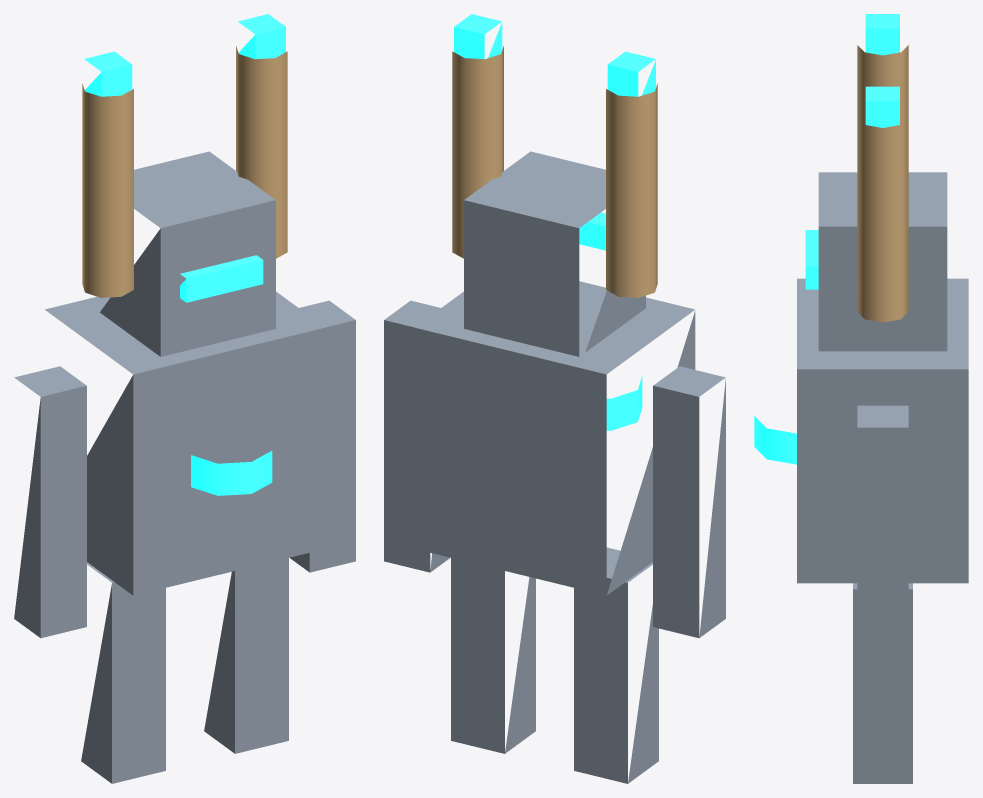
File: golem_galvanic_03.glb
The picture shows the model from 3 angles, left to right: view 1: azimuth 30°, elevation 25°; view 2: azimuth 150°, elevation 25°; view 3: azimuth 270°, elevation 25°; orthographic projection. The views are drawn at different scales.
Visible parts, largest first — view 1: GalvanicBody, GalvanicCoils, GalvanicGlow; view 2: GalvanicBody, GalvanicCoils, GalvanicGlow; view 3: GalvanicBody, GalvanicCoils, GalvanicGlow.
Part boxes in pixels (box(x1,y1,x2,y2)): GalvanicBody: box(14, 151, 355, 783); GalvanicCoils: box(82, 46, 287, 297); GalvanicGlow: box(84, 14, 285, 495); GalvanicBody: box(384, 151, 725, 783); GalvanicCoils: box(452, 46, 657, 297); GalvanicGlow: box(454, 14, 655, 430); GalvanicBody: box(797, 172, 968, 783); GalvanicCoils: box(857, 45, 908, 322); GalvanicGlow: box(754, 14, 899, 464).
Bounding box in the file's own units: 0.82 × 1.76 × 0.5.
